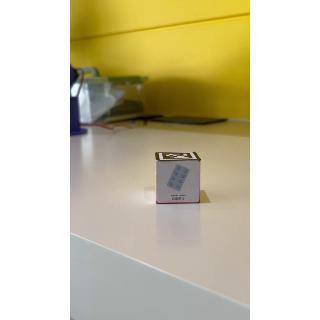Tablet: (156, 160, 202, 205)
